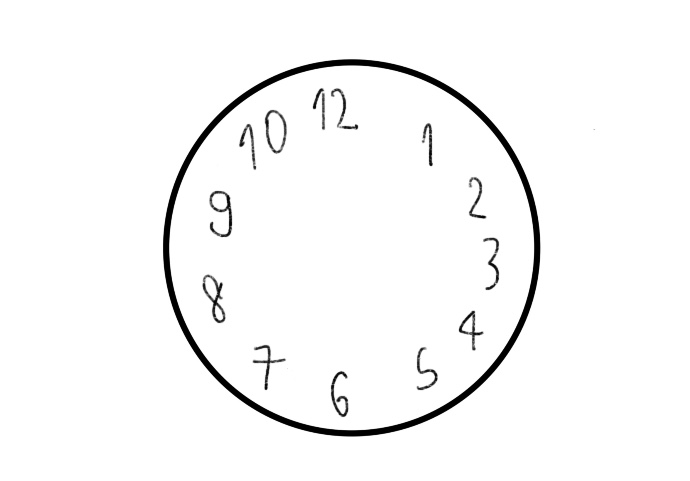eight: (199, 271, 229, 326)
five: (410, 345, 441, 391)
four: (457, 307, 486, 351)
nine: (206, 186, 236, 242)
one: (420, 119, 439, 171)
seven: (250, 344, 287, 390)
six: (329, 368, 352, 419)
ten: (237, 108, 288, 172)
three: (480, 233, 503, 291)
twelve: (311, 80, 359, 135)
two: (464, 173, 490, 223)
